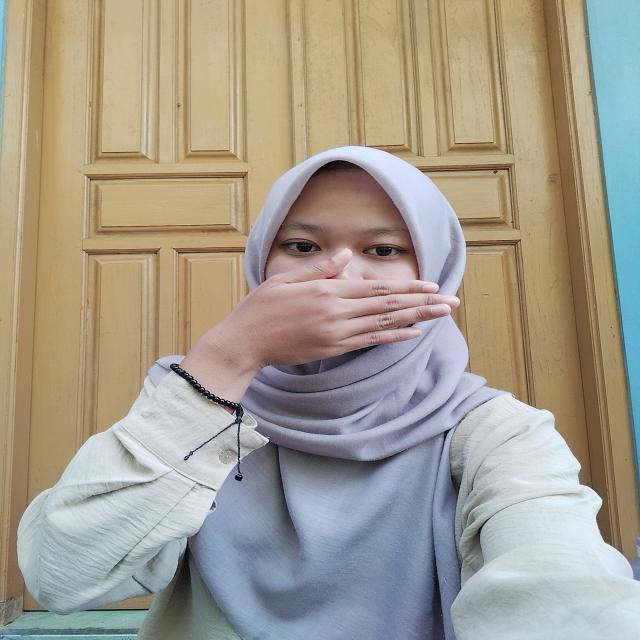buruk: (183, 233, 467, 361)
